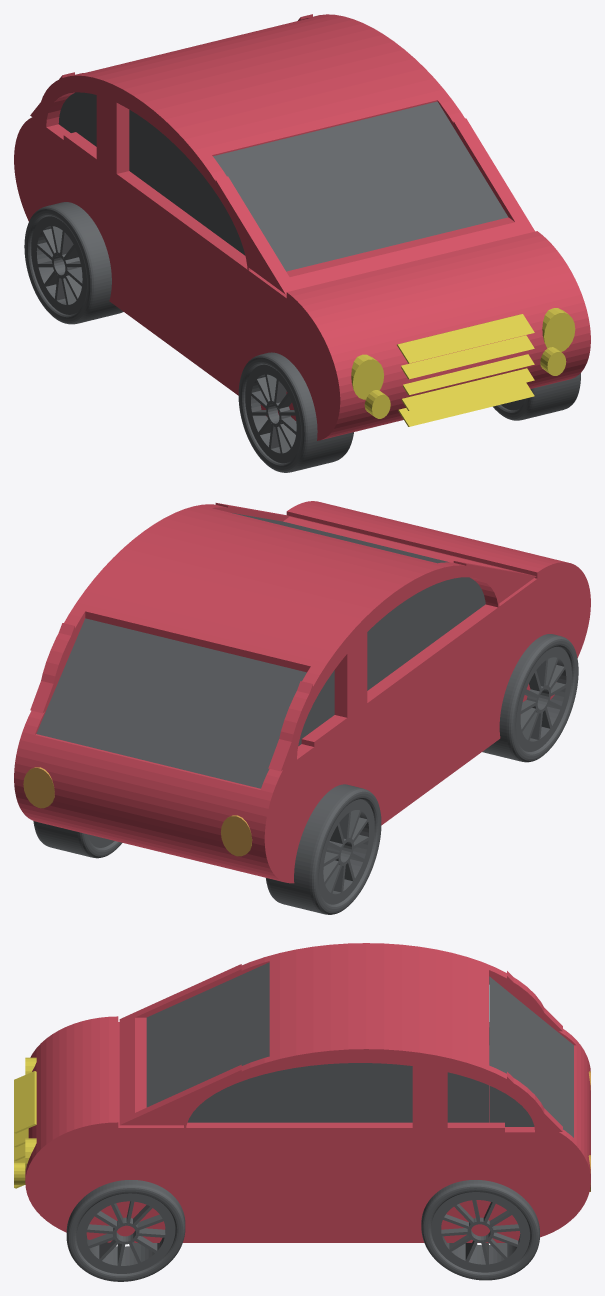
Rendered from car.glb.
3 renders of one model, top to bottom at view 1: azimuth 30°, elevation 25°; view 2: azimuth 150°, elevation 25°; view 3: azimuth 270°, elevation 25°, orthographic. The views are drawn at different scales.
Visible parts, largest first — view 1: Mesh_Mesh_head_geo.001_lambert2SG.001; view 2: Mesh_Mesh_head_geo.001_lambert2SG.001; view 3: Mesh_Mesh_head_geo.001_lambert2SG.001.
Part boxes in pixels (<box>): Mesh_Mesh_head_geo.001_lambert2SG.001: <box>14,14,590,472</box>; Mesh_Mesh_head_geo.001_lambert2SG.001: <box>14,501,590,914</box>; Mesh_Mesh_head_geo.001_lambert2SG.001: <box>14,943,590,1281</box>.
Size of the model in its own units: 42.25 by 37 by 85.
